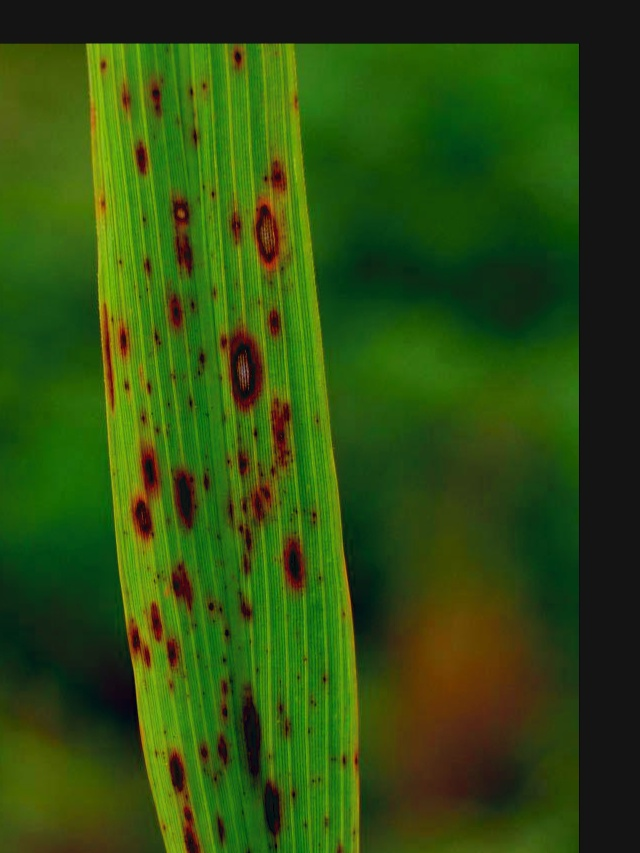Bacterial_Leaf_Blight: (228, 679, 277, 793), (221, 323, 261, 401), (168, 453, 206, 525), (249, 197, 283, 272), (253, 785, 293, 845), (278, 526, 312, 596), (159, 549, 199, 608), (152, 736, 190, 797), (133, 434, 164, 496), (153, 284, 193, 332), (179, 797, 210, 853), (259, 147, 296, 190), (128, 489, 154, 541), (152, 72, 176, 125), (147, 592, 168, 642), (107, 296, 116, 412), (118, 315, 139, 364), (165, 197, 200, 226), (126, 611, 144, 665), (160, 632, 186, 668), (226, 44, 252, 72), (134, 137, 153, 175), (114, 80, 135, 112), (98, 56, 106, 73)
